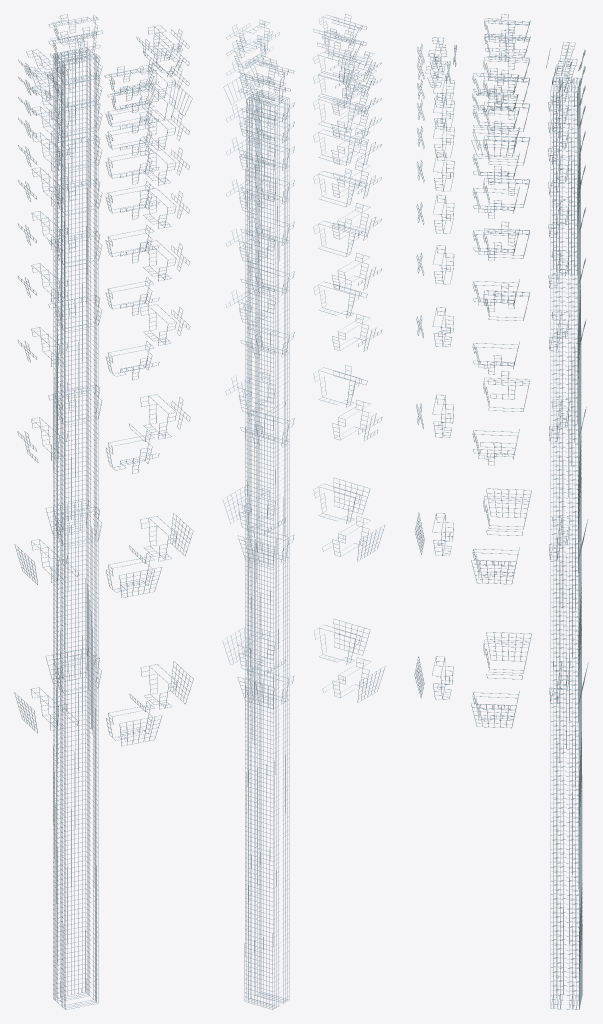
Rendered from lujiazui-18.glb.
The picture shows the model from 3 angles, left to right: view 1: azimuth 30°, elevation 25°; view 2: azimuth 150°, elevation 25°; view 3: azimuth 270°, elevation 25°; orthographic projection. The views are drawn at different scales.
Parts seen in each view (by area): view 1: source_2865_Mat3d66-1303573-2119-613_part4; view 2: source_2865_Mat3d66-1303573-2119-613_part4; view 3: source_2865_Mat3d66-1303573-2119-613_part4.
Boxes of the visible parts, <box> form: source_2865_Mat3d66-1303573-2119-613_part4: <box>14,14,193,1009</box>; source_2865_Mat3d66-1303573-2119-613_part4: <box>222,14,385,1009</box>; source_2865_Mat3d66-1303573-2119-613_part4: <box>414,14,588,1009</box>.
Bounding box in the file's own units: 56.08 × 337 × 56.08.
